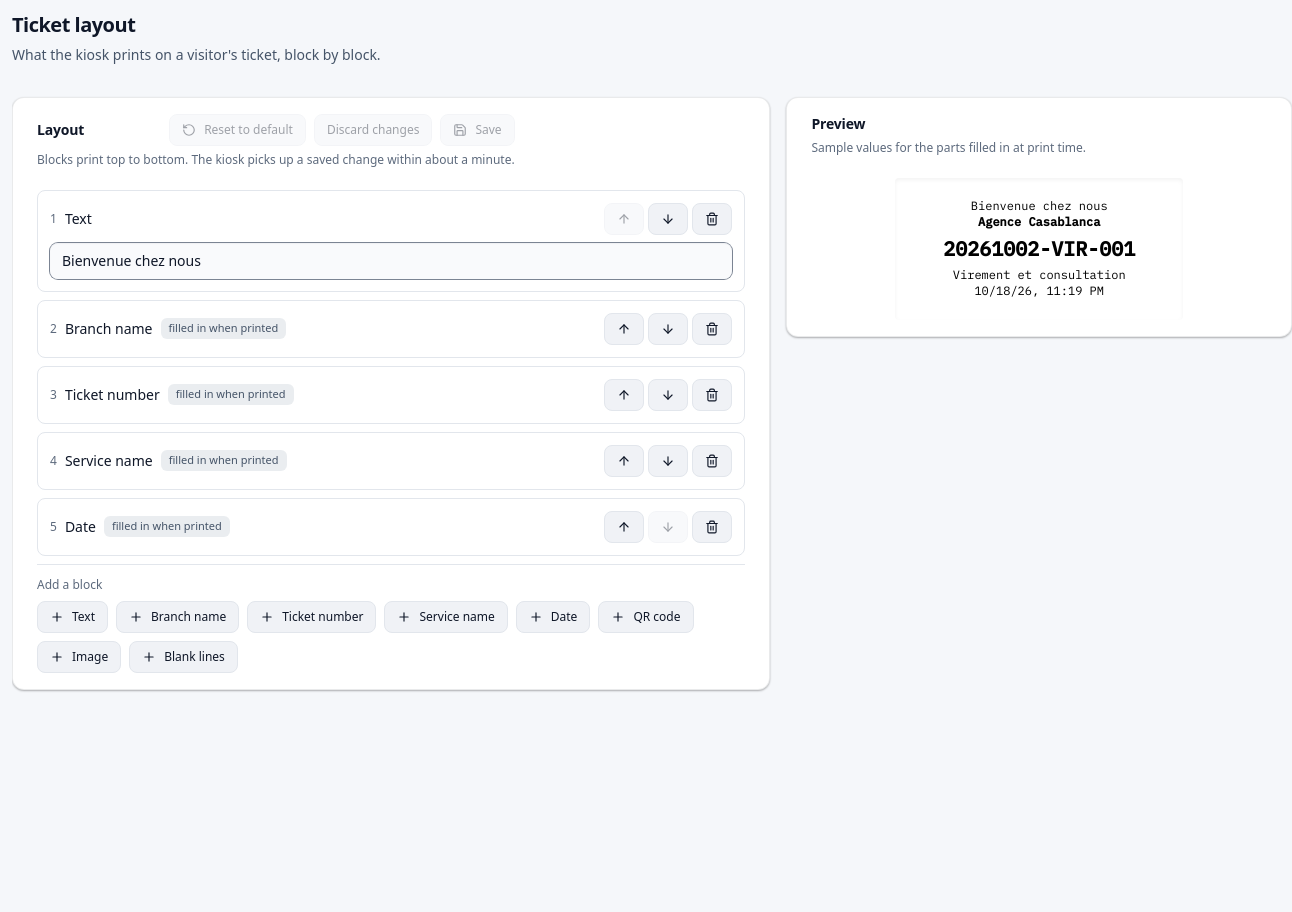
TicketTemplate › will not save a block that would print nothing, and says which one
Expected: the button named "move block 1, text down" is shown, [648,202,688,234]
Click the button named "add text block": x=72, y=616 [37,600,108,632]
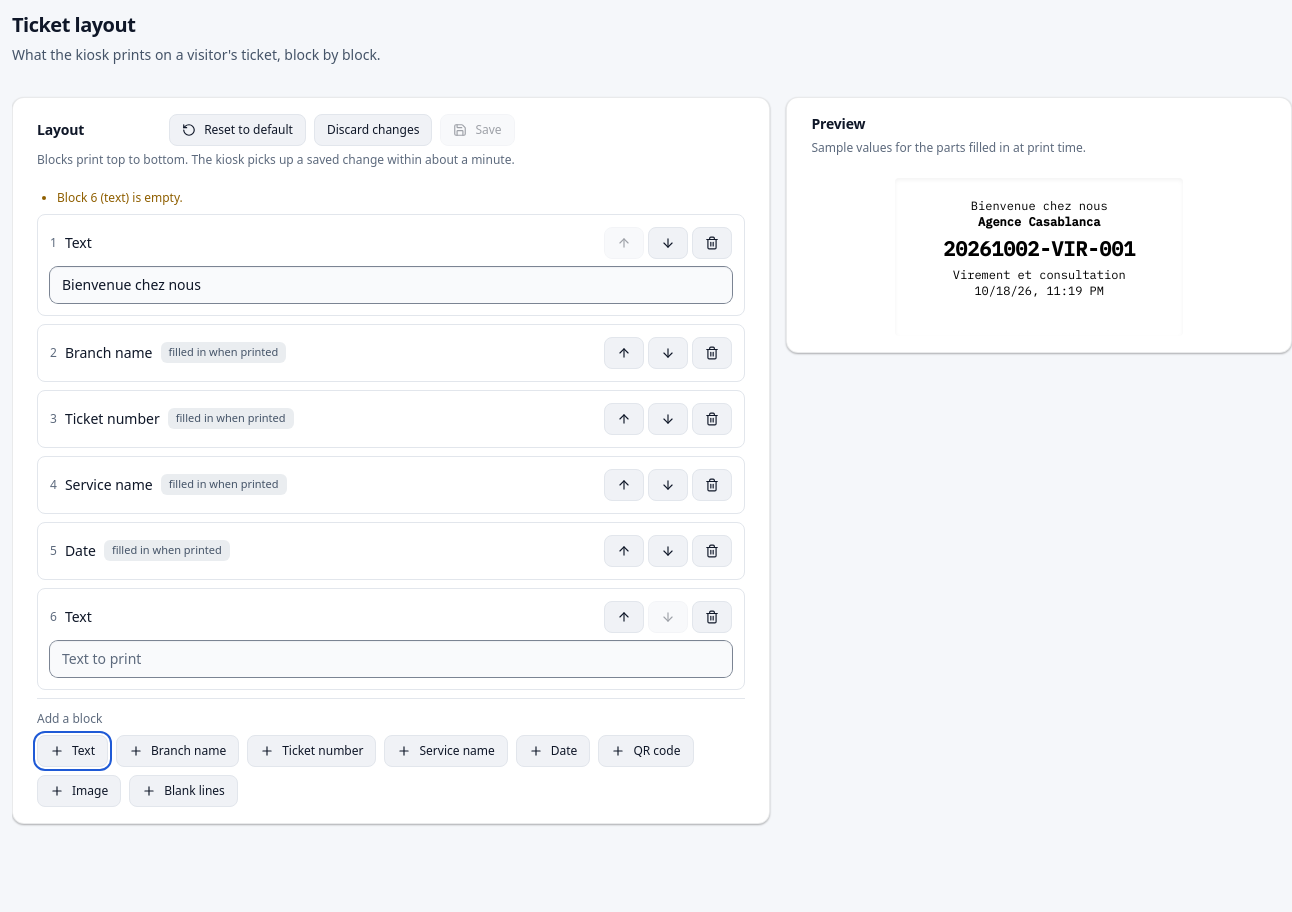
Expected: the button "Save" is disabled, [440,114,515,146]
Now the list item "Block 6 (text) is empty." is shown, box [57,188,183,206]
